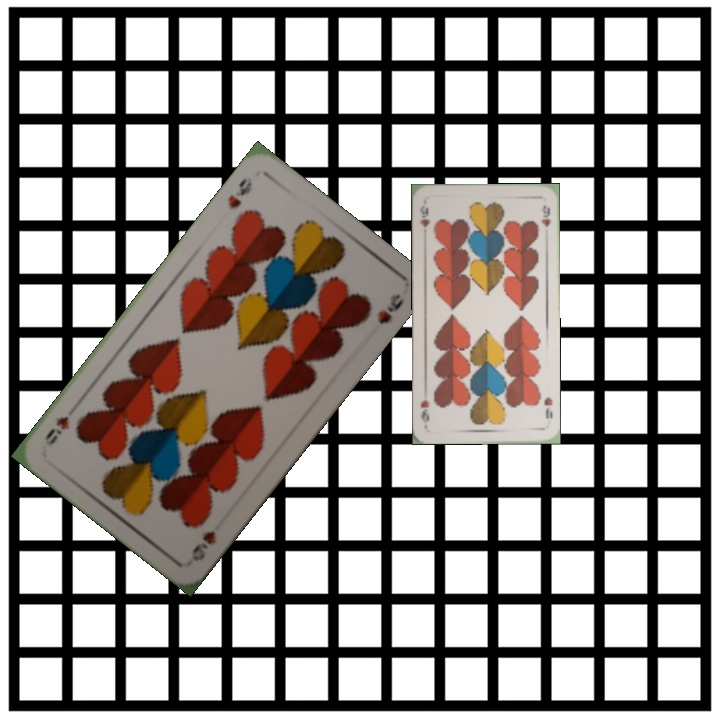H9: (224, 172, 255, 213), (187, 526, 219, 564), (416, 202, 433, 229), (540, 393, 555, 421)
